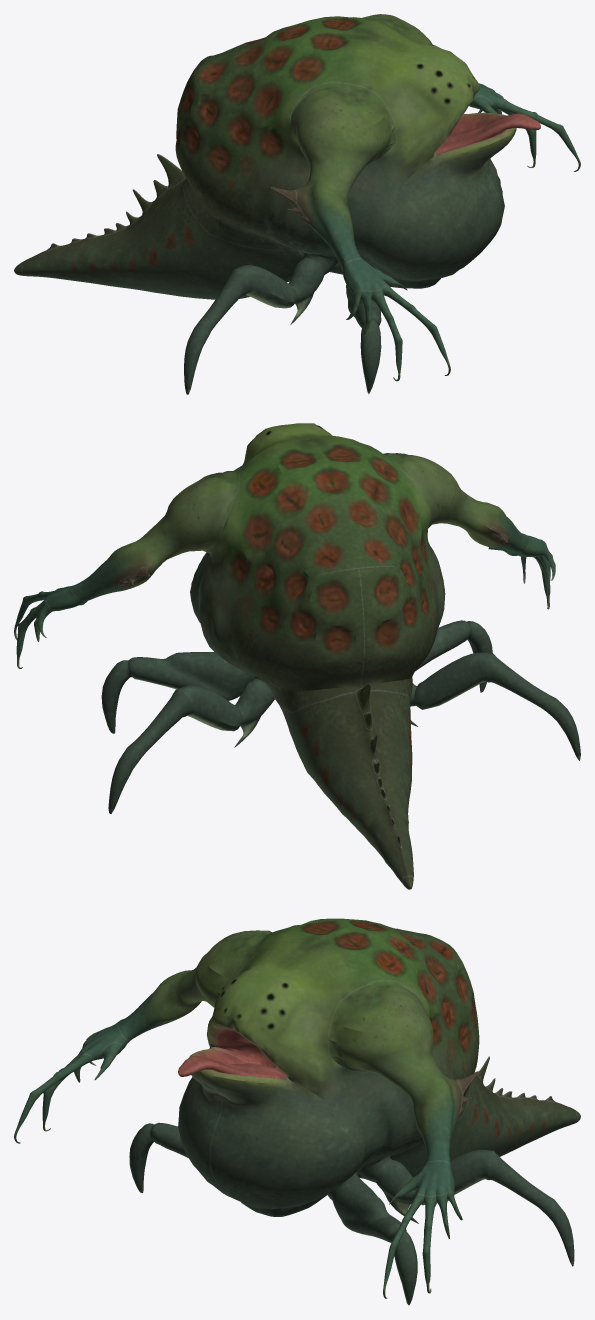
The model's file is toad.obj.
The picture shows the model from 3 angles, top to bottom: view 1: azimuth 30°, elevation 25°; view 2: azimuth 150°, elevation 25°; view 3: azimuth 270°, elevation 25°; orthographic projection. The views are drawn at different scales.
Parts seen in each view (by area): view 1: Bugback_Toad_1; view 2: Bugback_Toad_1; view 3: Bugback_Toad_1.
Boxes of the visible parts, x1,y1,x2,y2 form: Bugback_Toad_1: (14, 14, 580, 394); Bugback_Toad_1: (14, 423, 580, 889); Bugback_Toad_1: (14, 918, 580, 1305).
Bounding box in the file's own units: 6.01 × 3.41 × 6.01.
1 material, 1 textured.
